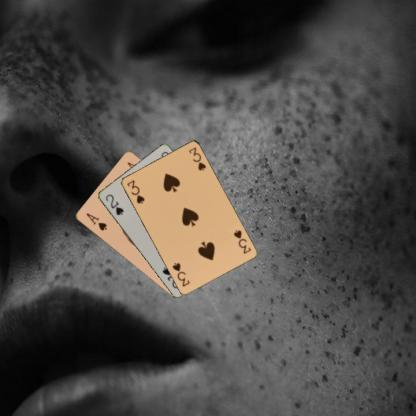2s: (103, 191, 125, 217)
3s: (124, 177, 146, 205), (230, 227, 252, 255)
As: (83, 210, 108, 232)
